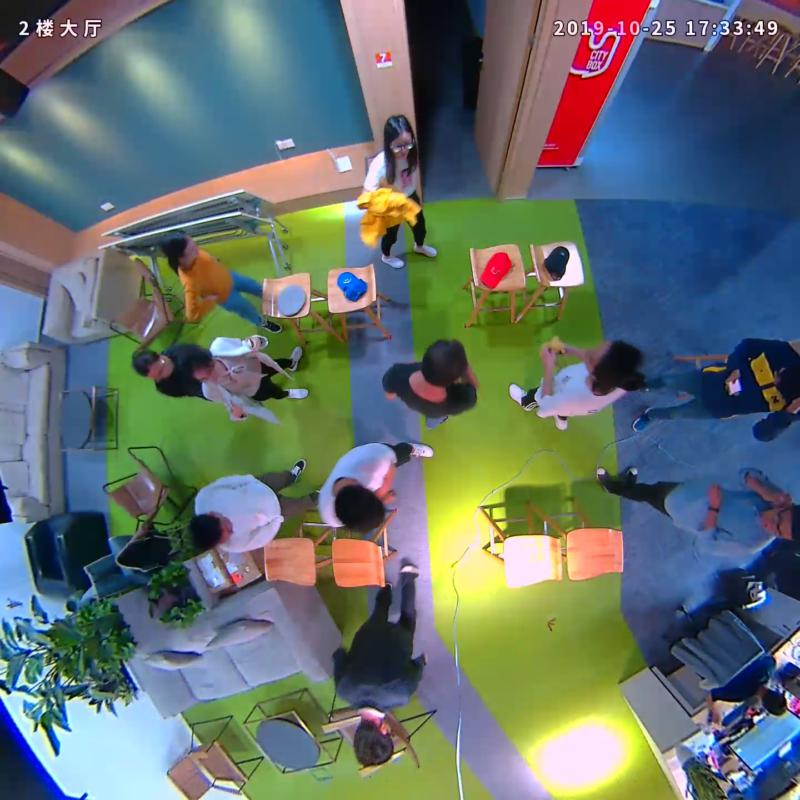head: (585, 339, 643, 387), (334, 481, 386, 532), (422, 339, 467, 387), (352, 718, 392, 768), (177, 345, 221, 383), (188, 514, 231, 550), (761, 504, 800, 543), (384, 114, 416, 160), (160, 230, 199, 264), (129, 348, 170, 379)
